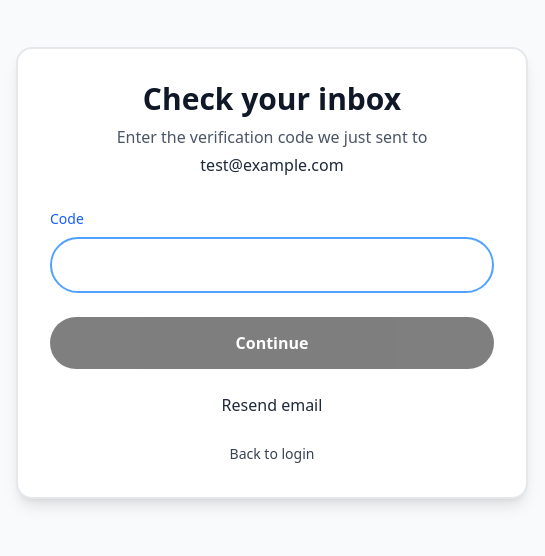
ValidateResetCodePage › shows resend error message from api
Click the button "Resend email" at coordinates (272, 405), box [222,393,322,417]
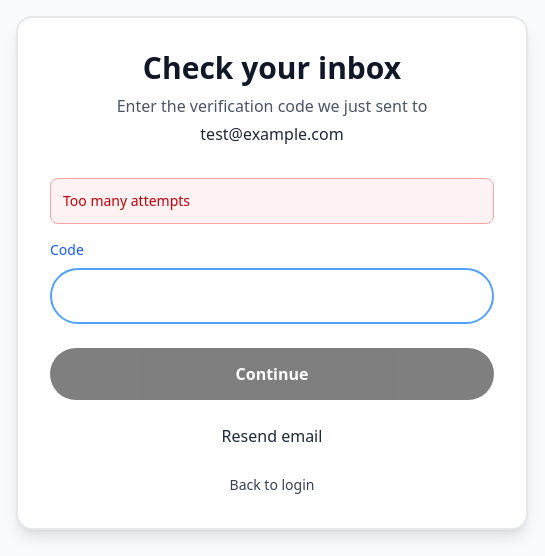
Now the text "Too many attempts" is shown, box [50,178,494,224]
